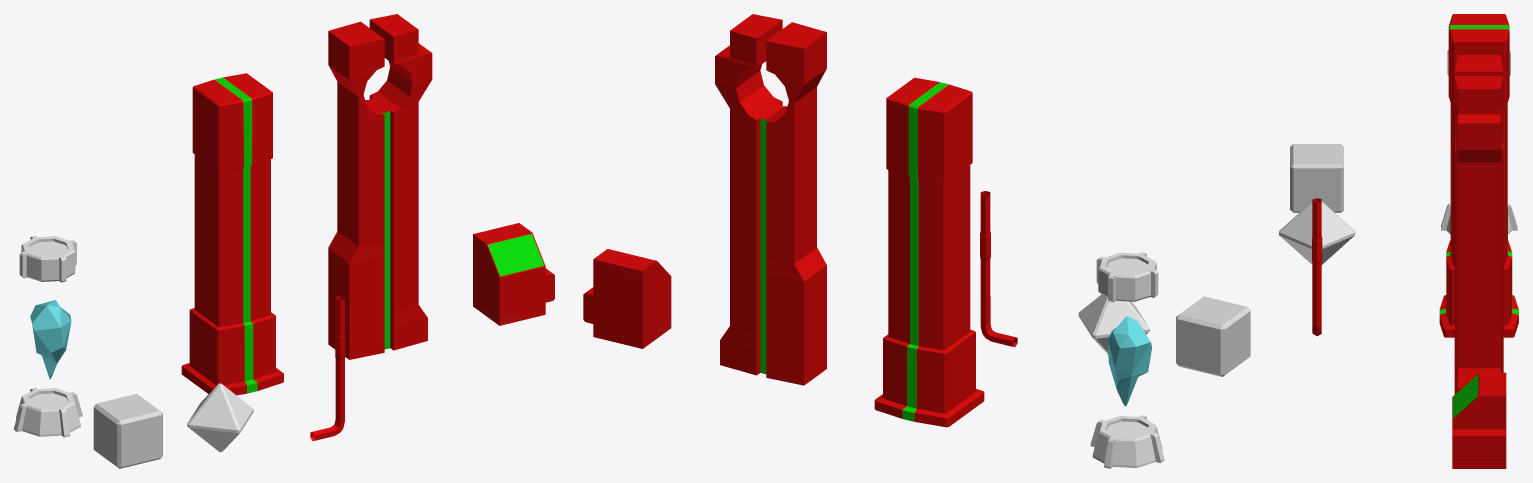
File: Props_SciFi_01.fbx
The picture shows the model from 3 angles, left to right: view 1: azimuth 30°, elevation 25°; view 2: azimuth 150°, elevation 25°; view 3: azimuth 270°, elevation 25°; orthographic projection. The views are drawn at different scales.
Parts seen in each view (by area): view 1: Column_02, Column_01, Box_01, Cube_01, Column_03_Bottom, Romb_01, Column_03_Top, Crystal_01, Pipe_01; view 2: Column_02, Column_01, Box_01, Cube_01, Column_03_Bottom, Column_03_Top, Crystal_01, Pipe_01, Romb_01; view 3: Column_02, Column_01, Box_01, Cube_01, Romb_01, Pipe_01, Column_03_Bottom.
Boxes of the visible parts, x1,y1,x2,y2 form: Column_02: (328, 14, 432, 359); Column_01: (181, 73, 283, 395); Box_01: (473, 223, 554, 325); Cube_01: (93, 393, 162, 468); Column_03_Bottom: (14, 387, 82, 437); Romb_01: (187, 383, 253, 452); Column_03_Top: (19, 235, 76, 282); Crystal_01: (30, 300, 71, 379); Pipe_01: (310, 295, 345, 441); Column_02: (715, 14, 826, 385); Column_01: (874, 77, 984, 427); Box_01: (583, 249, 671, 348); Cube_01: (1176, 296, 1250, 376); Column_03_Bottom: (1090, 415, 1164, 468); Column_03_Top: (1096, 252, 1158, 302); Crystal_01: (1107, 316, 1152, 406); Pipe_01: (980, 191, 1017, 347); Romb_01: (1078, 294, 1149, 354); Column_02: (1454, 55, 1503, 394); Column_01: (1439, 14, 1518, 337); Box_01: (1452, 372, 1506, 468); Cube_01: (1290, 144, 1343, 212); Romb_01: (1279, 201, 1355, 264); Pipe_01: (1312, 198, 1322, 336); Column_03_Bottom: (1441, 203, 1517, 234).
Bounding box in the file's own units: 11.41 × 6.6 × 4.44.
